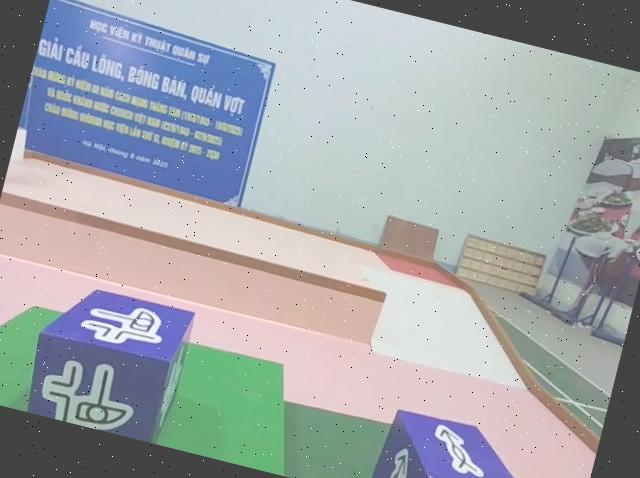R2 Real Blue: (20, 274, 202, 448), (365, 403, 541, 478)
